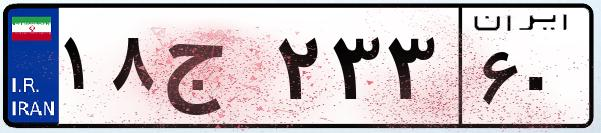0: (525, 38, 570, 115)
1: (57, 26, 110, 100)
2: (270, 28, 330, 110)
3: (385, 28, 445, 110), (330, 28, 385, 110)
6: (475, 38, 525, 113)
8: (110, 28, 158, 98)
ج: (158, 20, 270, 120)
